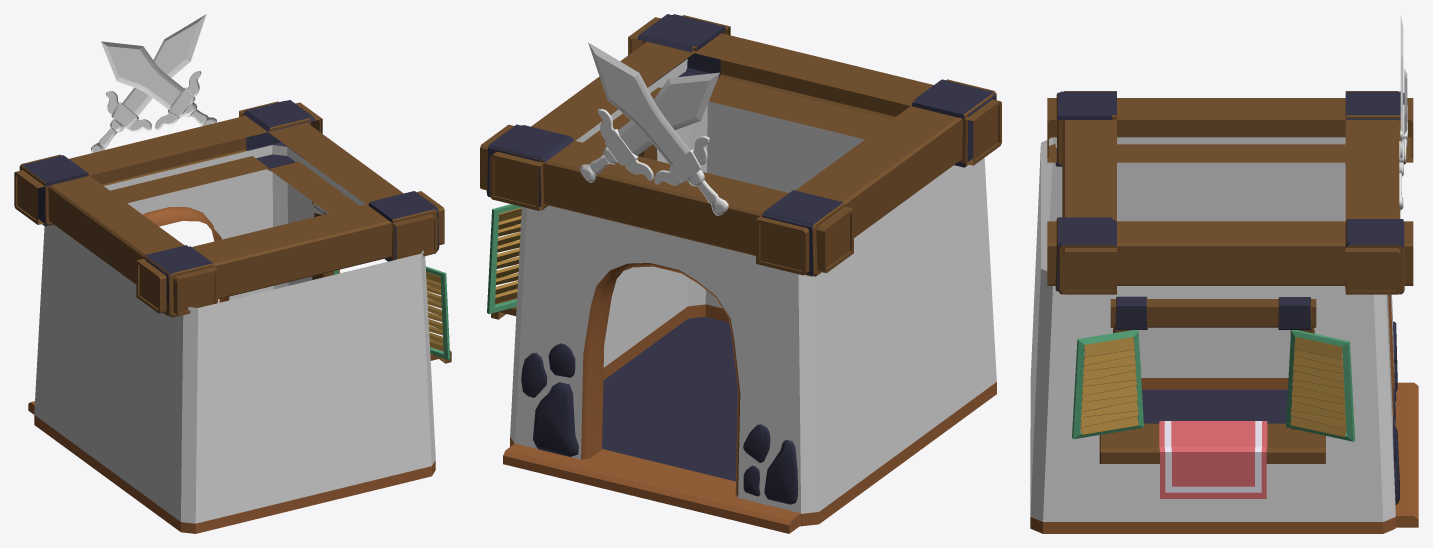
The model's file is GUNCreate.fbx.
The picture shows the model from 3 angles, left to right: view 1: azimuth 30°, elevation 25°; view 2: azimuth 150°, elevation 25°; view 3: azimuth 270°, elevation 25°; orthographic projection. The views are drawn at different scales.
Visible parts, largest first — view 1: Плоскость.009, Плоскость.020, Плоскость.019, Плоскость.017, Плоскость.018, Плоскость.021, Плоскость.022, Плоскость.005, Плоскость; view 2: Плоскость.009, Плоскость.019, Плоскость.020, Плоскость.017, Плоскость.018, Плоскость.010, Плоскость.022, Плоскость.021, Плоскость.011, Плоскость.004, Плоскость.012, Плоскость.006 (+3 smaller); view 3: Плоскость.009, Плоскость.018, Плоскость.017, Плоскость.020, Плоскость.019, Плоскость.008, Плоскость.001, Плоскость.005, Плоскость.004, Плоскость.007, Плоскость.010, Плоскость (+2 smaller).
Part boxes in pixels (bbox=[...]): Плоскость.009: bbox=[34, 145, 435, 533]; Плоскость.020: bbox=[136, 191, 444, 316]; Плоскость.019: bbox=[14, 100, 322, 226]; Плоскость.017: bbox=[19, 154, 218, 317]; Плоскость.018: bbox=[239, 100, 437, 260]; Плоскость.021: bbox=[101, 41, 216, 130]; Плоскость.022: bbox=[91, 14, 206, 152]; Плоскость.005: bbox=[426, 272, 443, 350]; Плоскость: bbox=[425, 266, 450, 359]; Плоскость.009: bbox=[510, 59, 996, 526]; Плоскость.019: bbox=[480, 124, 853, 276]; Плоскость.020: bbox=[628, 14, 1001, 167]; Плоскость.017: bbox=[756, 79, 996, 276]; Плоскость.018: bbox=[490, 14, 730, 210]; Плоскость.010: bbox=[503, 443, 800, 533]; Плоскость.022: bbox=[588, 42, 728, 215]; Плоскость.021: bbox=[580, 72, 719, 182]; Плоскость.011: bbox=[533, 382, 578, 456]; Плоскость.004: bbox=[495, 207, 521, 303]; Плоскость.012: bbox=[764, 439, 798, 504]; Плоскость.006: bbox=[487, 204, 521, 314]; Плоскость.009: bbox=[1030, 137, 1395, 533]; Плоскость.018: bbox=[1047, 217, 1413, 291]; Плоскость.017: bbox=[1047, 92, 1413, 166]; Плоскость.020: bbox=[1057, 91, 1116, 294]; Плоскость.019: bbox=[1345, 91, 1405, 294]; Плоскость.008: bbox=[1159, 421, 1267, 498]; Плоскость.001: bbox=[1110, 296, 1316, 329]; Плоскость.005: bbox=[1080, 337, 1138, 434]; Плоскость.004: bbox=[1290, 337, 1346, 437]; Плоскость.007: bbox=[1099, 423, 1325, 463]; Плоскость.010: bbox=[1392, 382, 1418, 527]; Плоскость: bbox=[1072, 330, 1143, 439].
Size of the model in its own units: 770 by 855 by 720.
